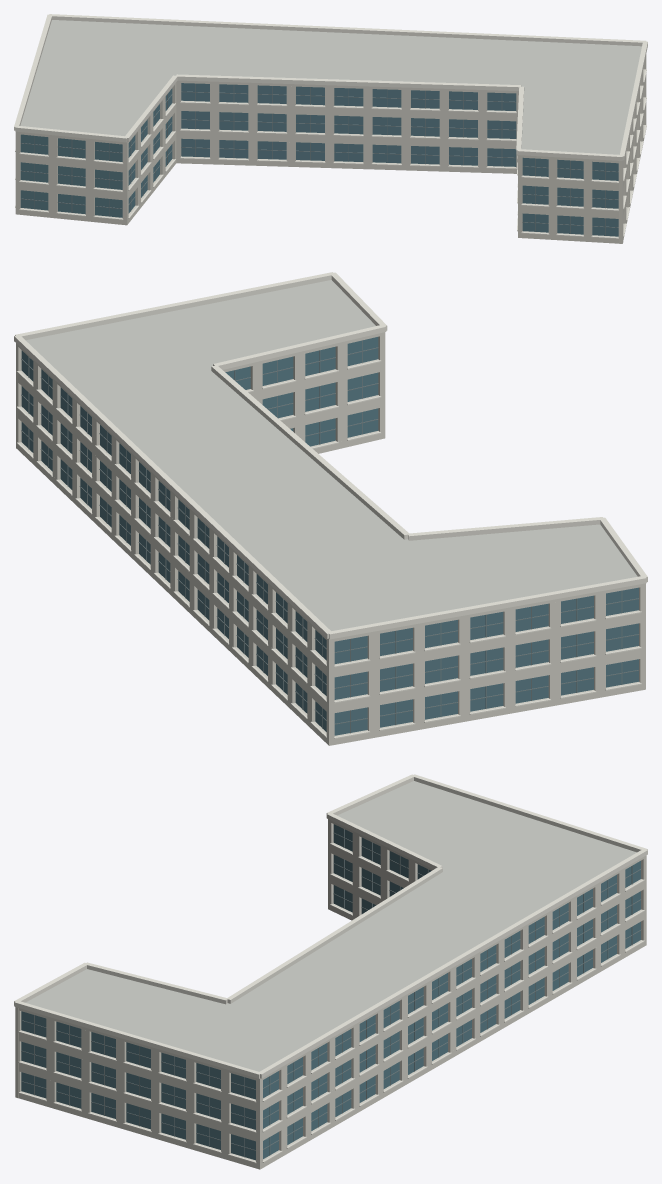
3 renders of one model, top to bottom at view 1: azimuth 30°, elevation 25°; view 2: azimuth 150°, elevation 25°; view 3: azimuth 270°, elevation 25°, orthographic. The views are drawn at different scales.
Visible parts, largest first — view 1: roof, wall, glass, trim, metal; view 2: roof, wall, glass, trim, metal; view 3: roof, wall, glass, trim, metal.
Part boxes in pixels (left/top/right/bottom): roof: left=20, top=20, right=641, bottom=154; wall: left=15, top=54, right=646, bottom=243; glass: left=20, top=83, right=618, bottom=236; trim: left=14, top=14, right=647, bottom=238; metal: left=20, top=83, right=618, bottom=235; roof: left=26, top=280, right=637, bottom=630; wall: left=16, top=332, right=645, bottom=745; glass: left=21, top=337, right=638, bottom=735; trim: left=14, top=272, right=647, bottom=738; metal: left=21, top=340, right=639, bottom=733; roof: left=25, top=781, right=636, bottom=1071; wall: left=15, top=819, right=646, bottom=1169; glass: left=21, top=824, right=640, bottom=1160; trim: left=14, top=774, right=647, bottom=1163; metal: left=21, top=829, right=641, bottom=1157.
Size of the model in its own units: 65.55 by 9.74 by 58.48.
